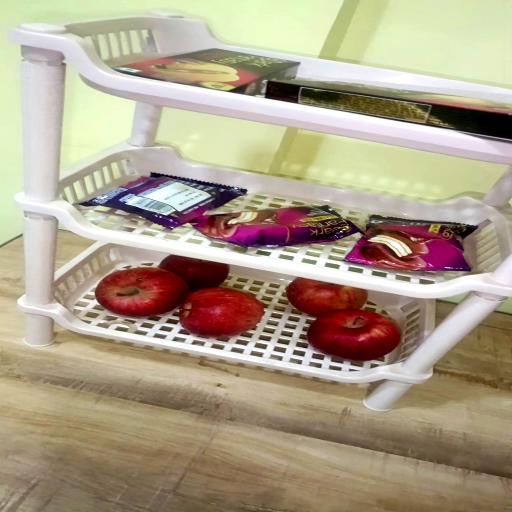Apple: (308, 310, 400, 362), (94, 268, 188, 318), (182, 289, 266, 338), (287, 279, 368, 319), (162, 256, 232, 292)
Choco Fills: (269, 76, 512, 143), (112, 48, 301, 96)
Choco Pie: (77, 176, 245, 232), (346, 216, 474, 272), (194, 208, 363, 250)
